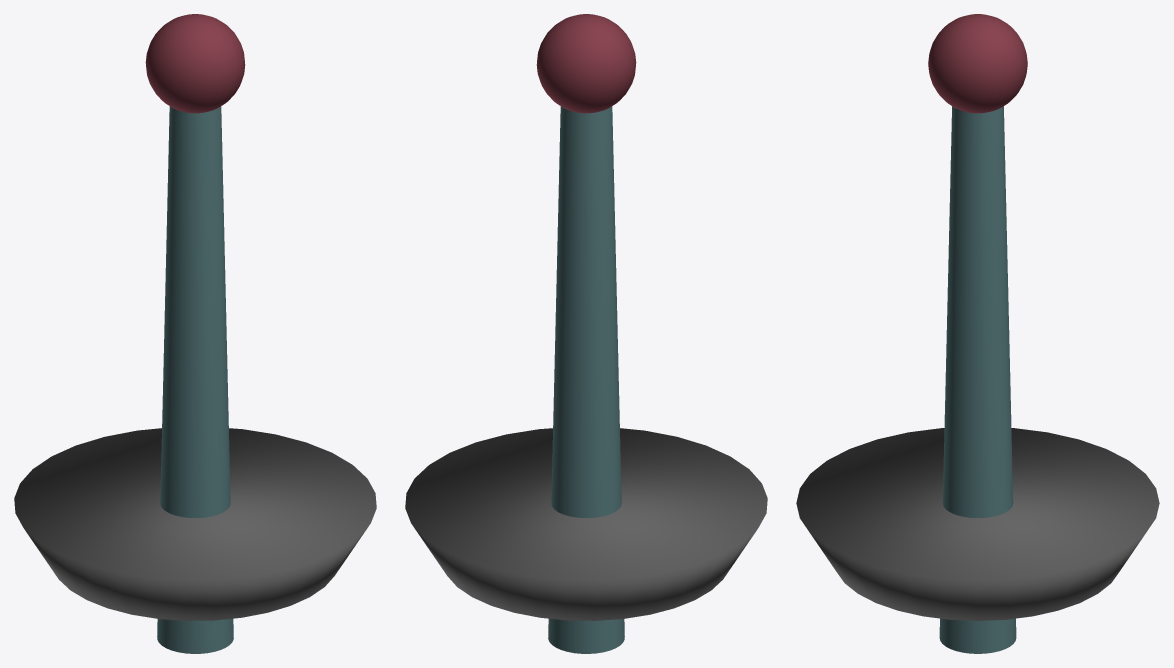
File: lazer.glb
3 views of the same model, side by side, from view 1: azimuth 30°, elevation 25°; view 2: azimuth 150°, elevation 25°; view 3: azimuth 270°, elevation 25° (orthographic).
Parts seen in each view (by area): view 1: Cylinder, Cylinder.001, Sphere; view 2: Cylinder, Cylinder.001, Sphere; view 3: Cylinder, Cylinder.001, Sphere.
Boxes of the visible parts, x1,y1,x2,y2 form: Cylinder: (14,428,376,620); Cylinder.001: (157,106,233,653); Sphere: (145,14,245,113); Cylinder: (405,428,767,620); Cylinder.001: (548,106,624,653); Sphere: (536,14,636,113); Cylinder: (796,428,1159,620); Cylinder.001: (939,106,1016,653); Sphere: (928,14,1027,113).
Bounding box in the file's own units: 2 × 3.76 × 2.
